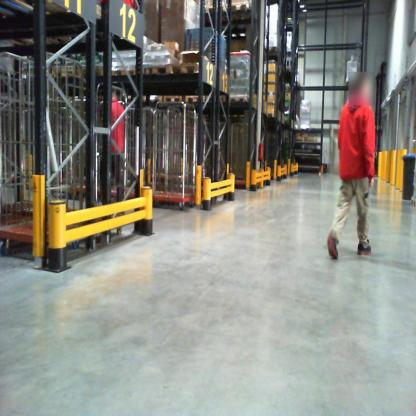pallet: (1, 1, 109, 30), (0, 1, 60, 47), (169, 60, 215, 85), (223, 2, 258, 33), (199, 2, 234, 31), (74, 61, 106, 80), (227, 96, 257, 115), (146, 62, 176, 78), (48, 64, 75, 80), (121, 63, 146, 79), (182, 90, 204, 108), (257, 46, 283, 58), (163, 95, 184, 104), (410, 197, 415, 207)
